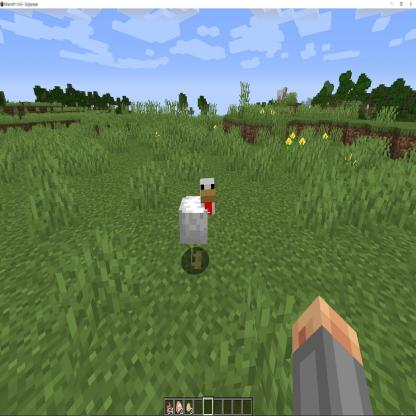minecraft-pigs: (176, 171, 221, 281)
